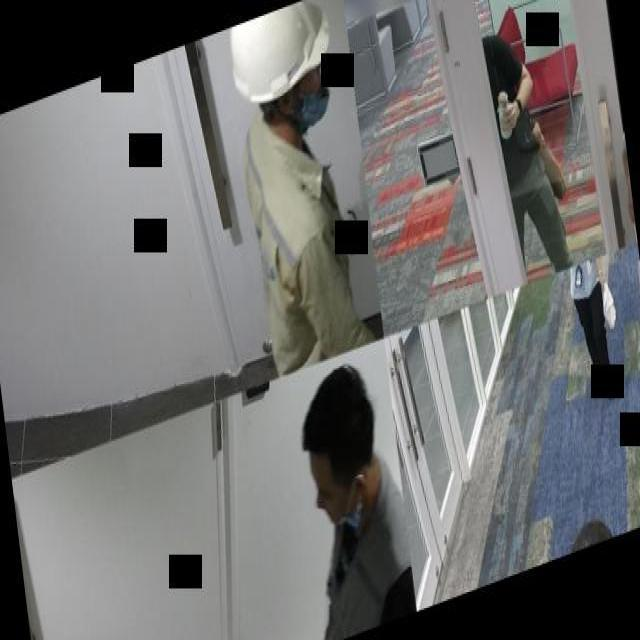hairnet: (310, 460, 361, 528), (295, 37, 330, 128)
